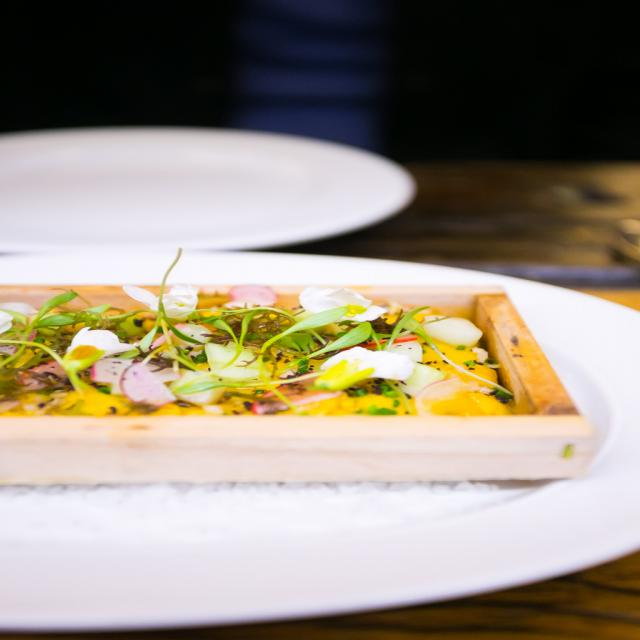non-organic waste: (0, 117, 408, 272)
